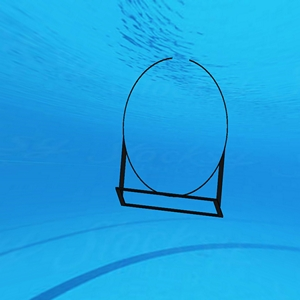circle: (115, 56, 229, 221)
